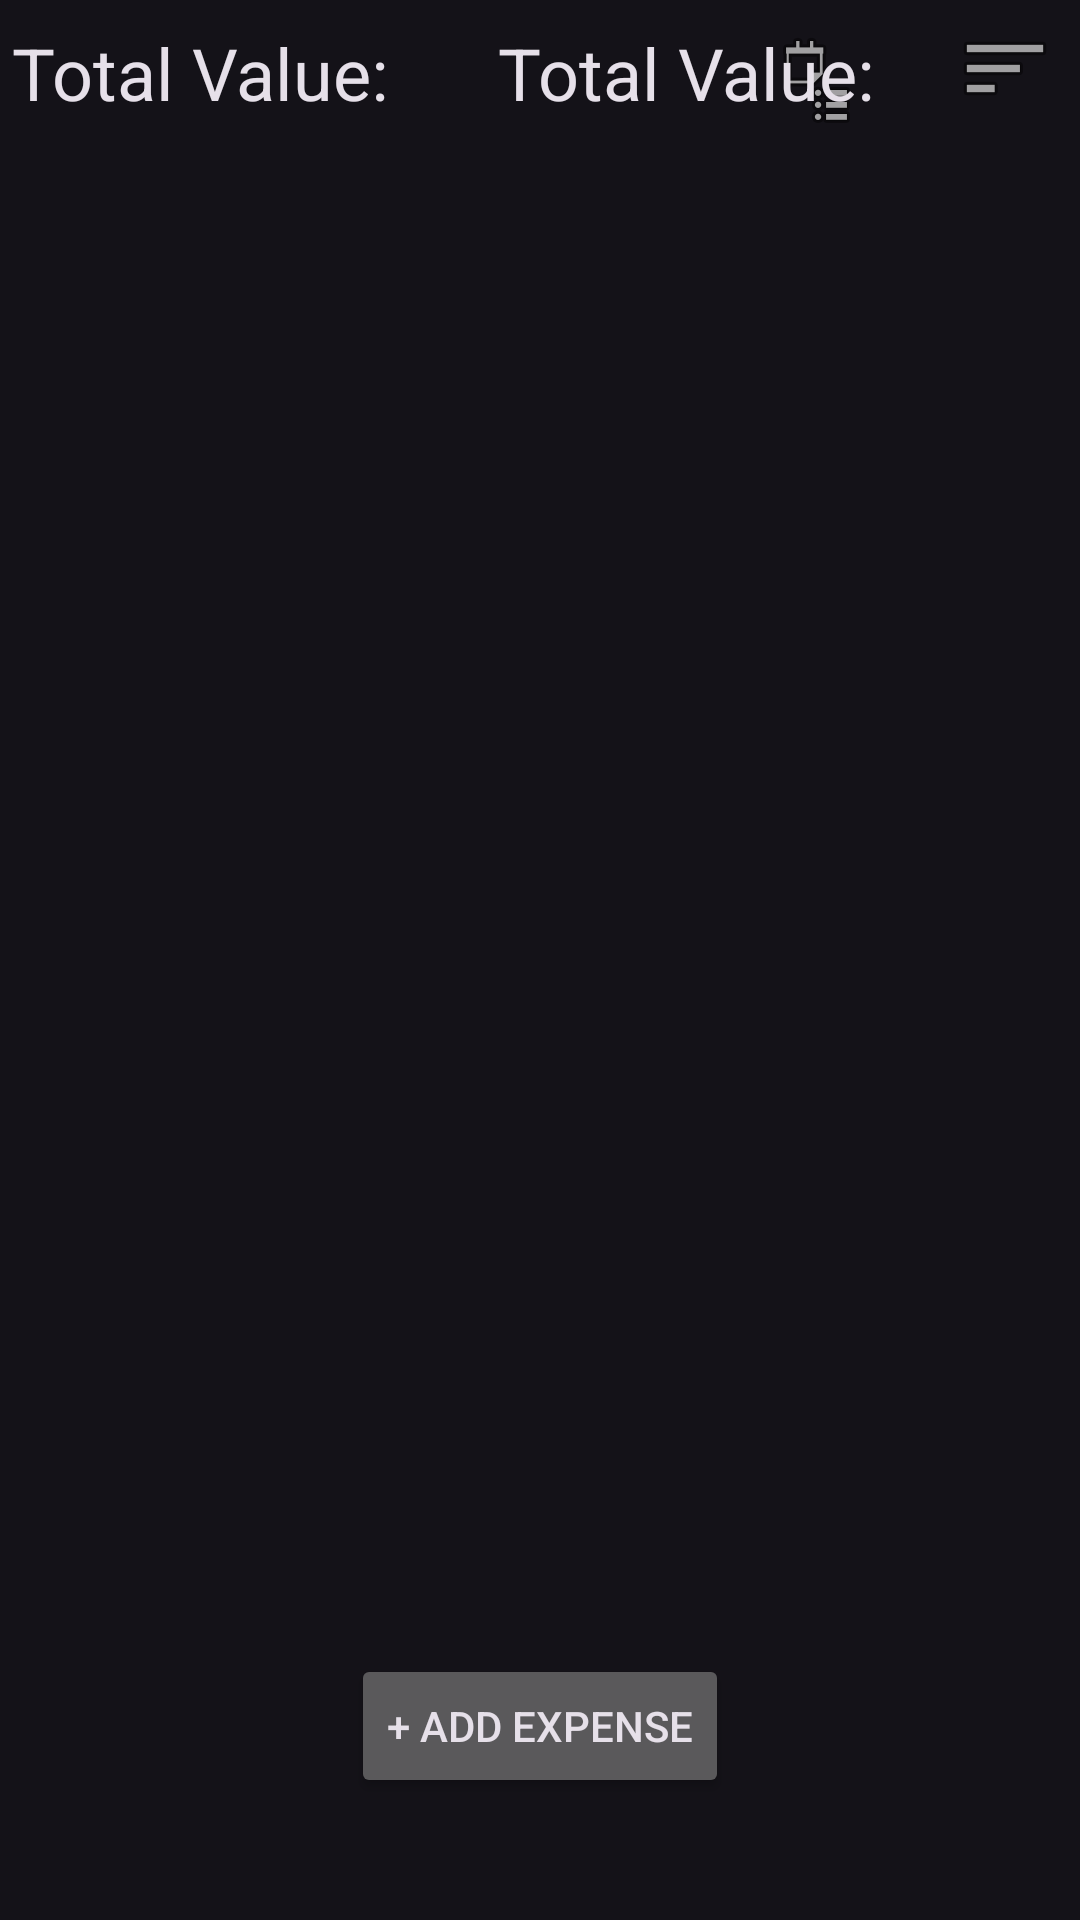

Icon click points for this 1080*1920 phone screenshot, format (x=x, y=y):
sort: (x=1005, y=68)
